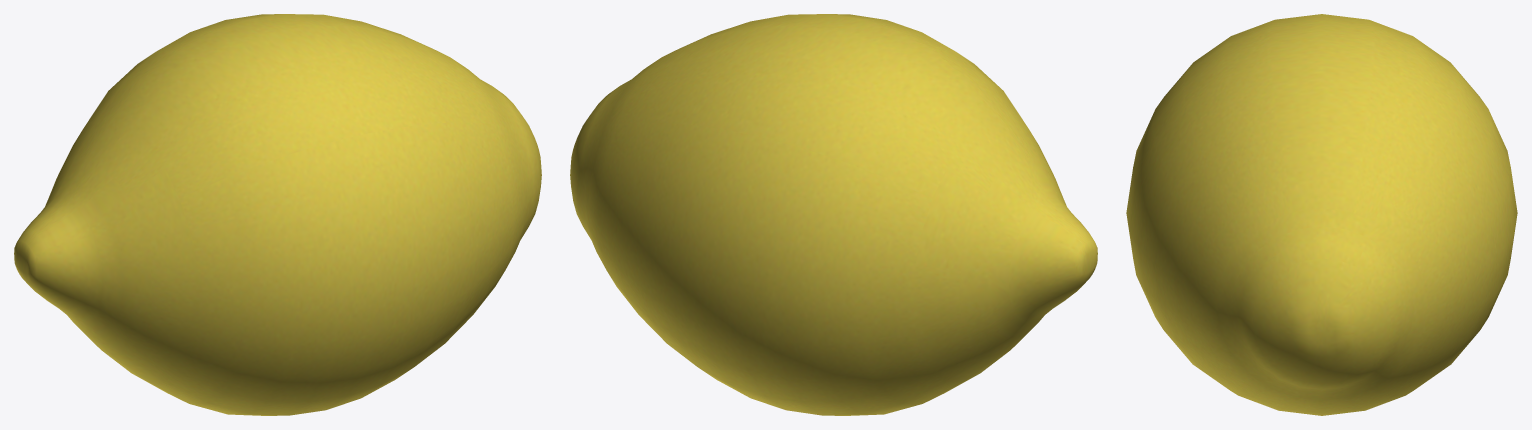
File: Lemon.fbx
3 views of the same model, side by side, from view 1: azimuth 30°, elevation 25°; view 2: azimuth 150°, elevation 25°; view 3: azimuth 270°, elevation 25° (orthographic). The views are drawn at different scales.
Parts seen in each view (by area): view 1: Lemon; view 2: Lemon; view 3: Lemon.
Part boxes in pixels (<box>): Lemon: <box>14,14,541,415</box>; Lemon: <box>570,14,1097,415</box>; Lemon: <box>1126,14,1517,415</box>.
Size of the model in its own units: 0.3506 by 0.242 by 0.242.
1 material, 1 textured.
